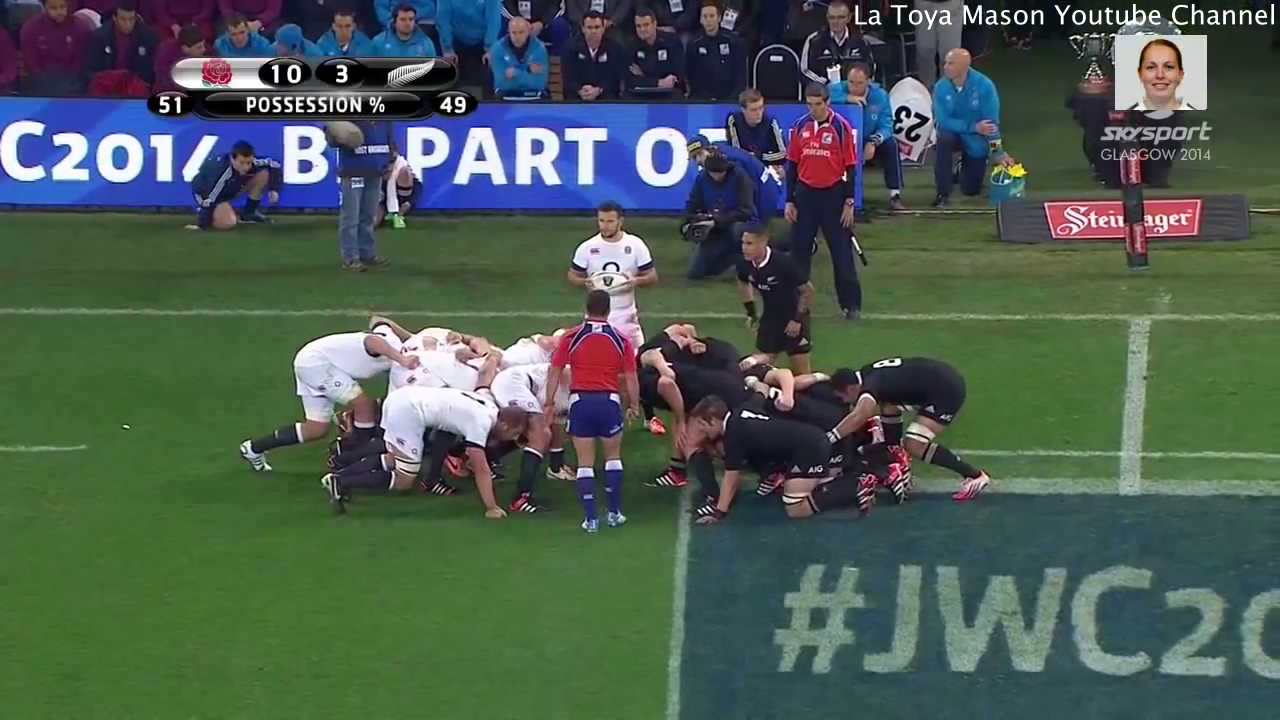player: (321, 396, 531, 515), (549, 293, 645, 543), (694, 396, 886, 519), (831, 352, 993, 497), (237, 329, 380, 481), (729, 227, 822, 366), (561, 205, 648, 313), (635, 360, 753, 407), (387, 344, 497, 390)
scrum: (227, 316, 999, 536)
